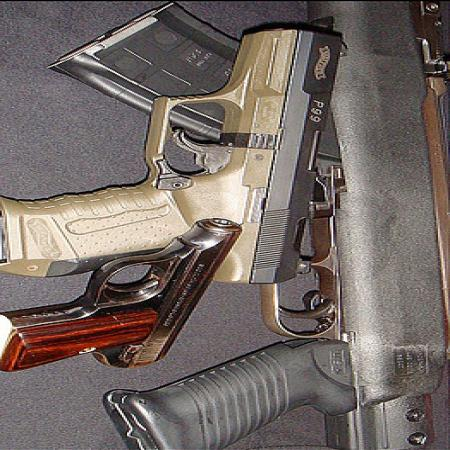Pistol: (2, 25, 354, 283), (3, 216, 246, 370)
